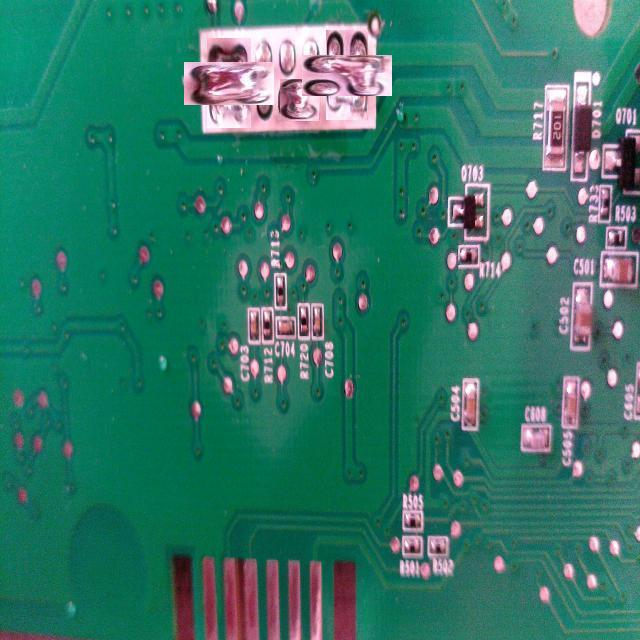Short_circuit: (195, 50, 262, 117), (314, 42, 380, 108), (278, 79, 320, 121)
